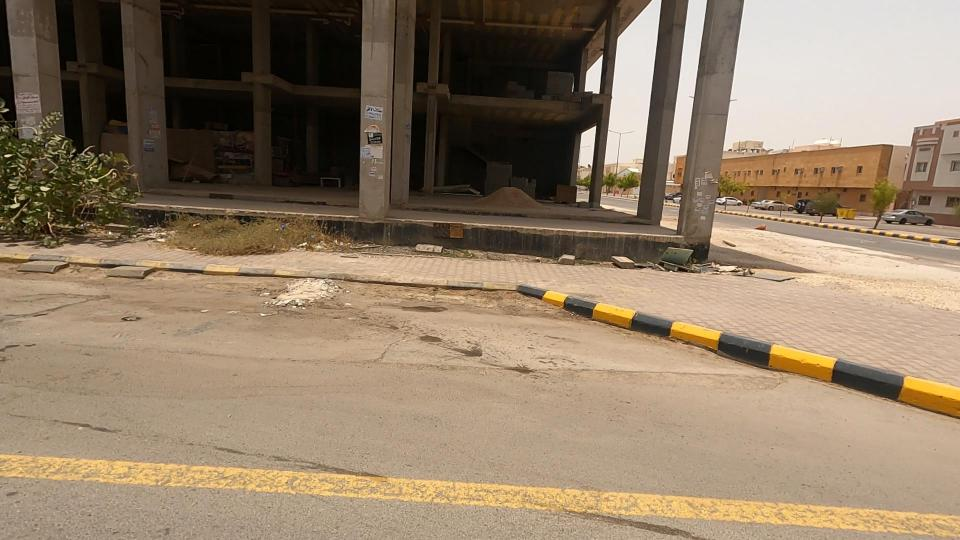GARBAGE: (594, 204, 761, 313), (223, 249, 385, 348), (699, 241, 781, 298), (723, 203, 793, 252)
